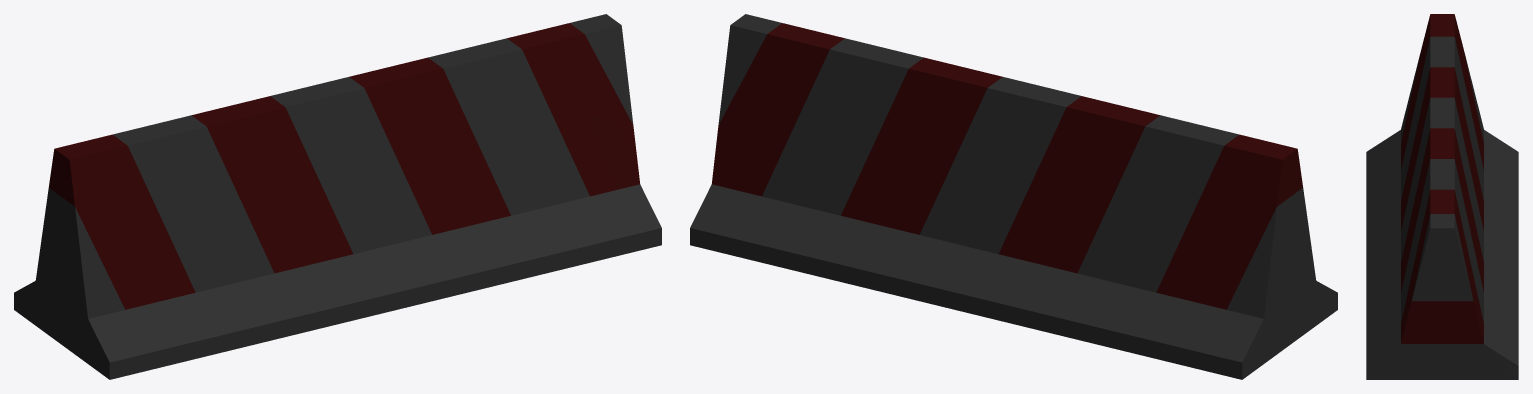
The model's file is SM_cordon.FBX.
The picture shows the model from 3 angles, left to right: view 1: azimuth 30°, elevation 25°; view 2: azimuth 150°, elevation 25°; view 3: azimuth 270°, elevation 25°; orthographic projection. The views are drawn at different scales.
Parts seen in each view (by area): view 1: cordon; view 2: cordon; view 3: cordon.
Boxes of the visible parts, bbox=[...] form: cordon: bbox=[14, 14, 661, 379]; cordon: bbox=[690, 14, 1337, 379]; cordon: bbox=[1366, 14, 1518, 379].
Bounding box in the file's own units: 300 × 99 × 90.
